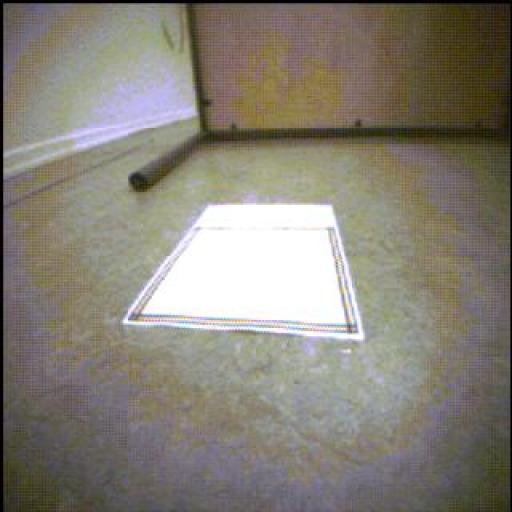Pad: (124, 206, 366, 342)
